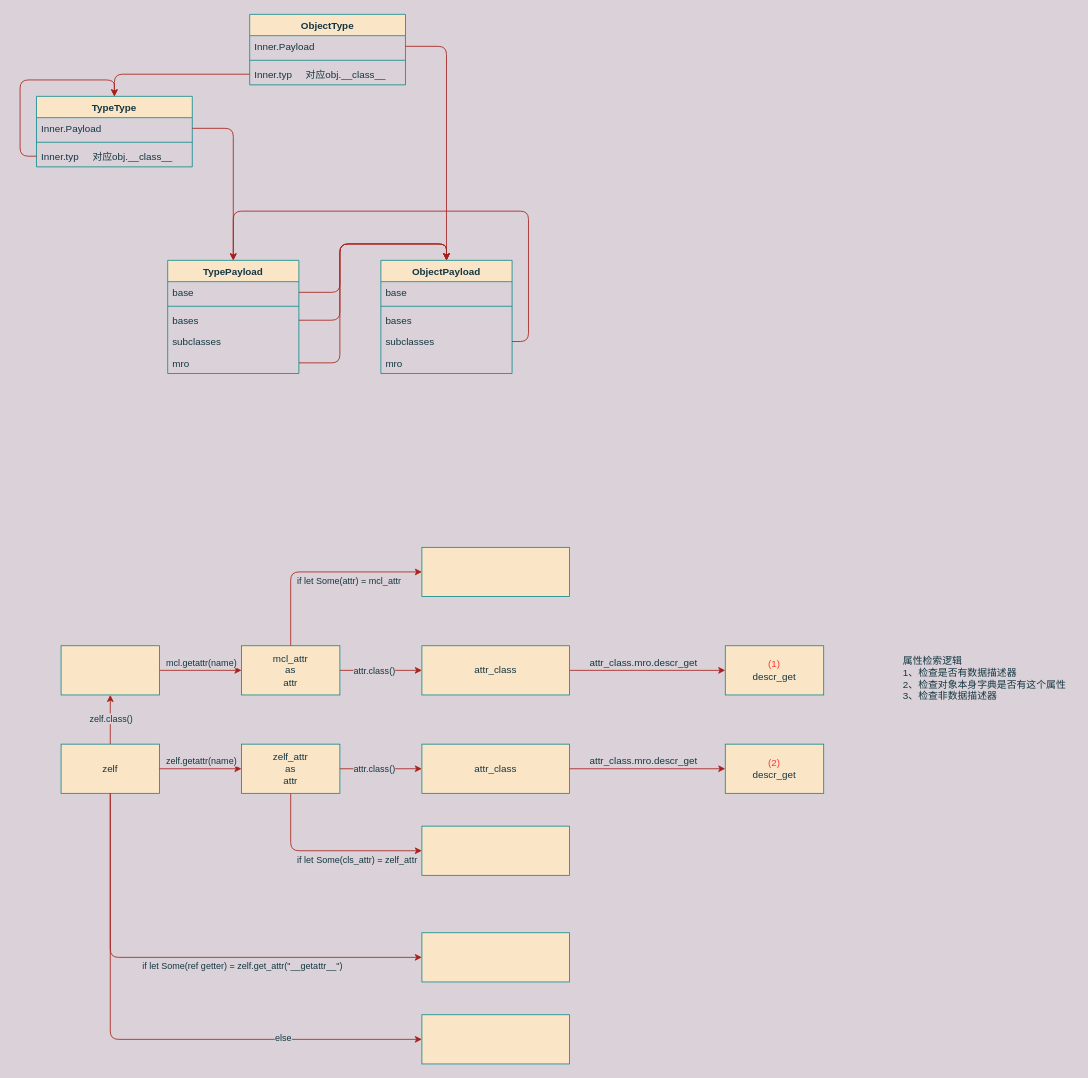
The diagram is 1088 pixels wide and 1078 high, and some of its shapes have lost their labels. The shapes that lost their labels are listed below. From the top down, each one's centre as x and y in pixels, then its label:
[495,572]: (4) Return vm.call_if_get_descriptor()
[109,670]: mcl
[495,850]: (3) Return cls_attr
[495,957]: (5) Return vm.invoke(getter)
[495,1039]: (6) Return Err no attribute
